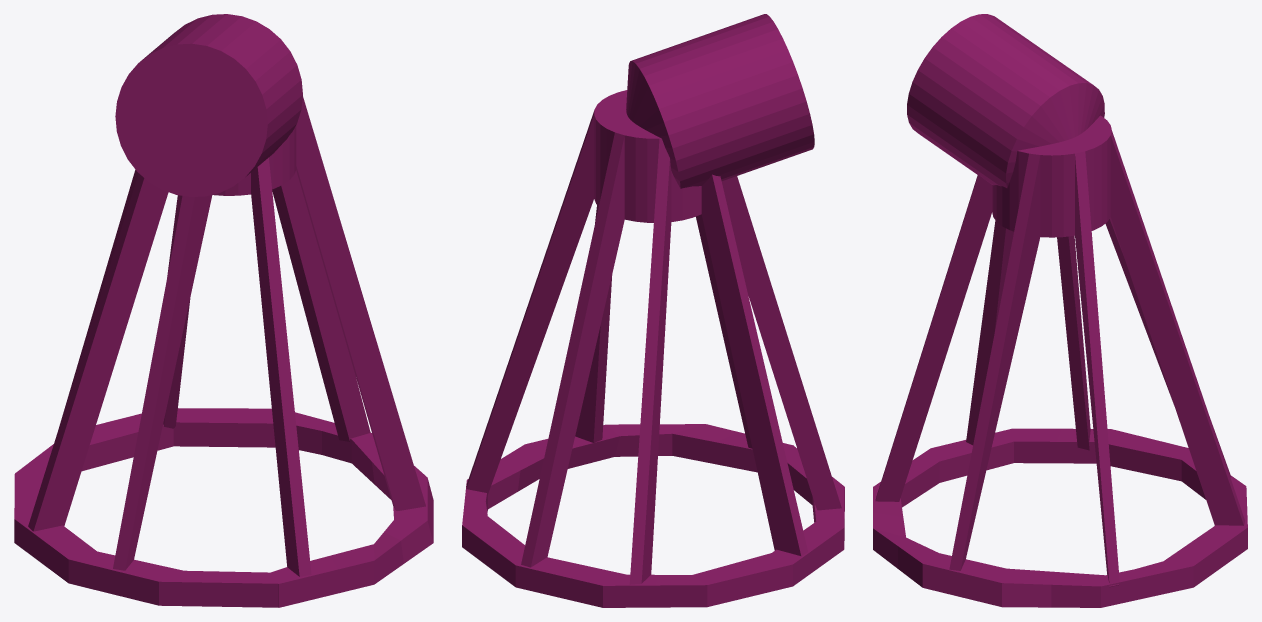
Rendered from SmallBlockRadarRynAR_Constr1.fbx.
3 views of the same model, side by side, from view 1: azimuth 30°, elevation 25°; view 2: azimuth 150°, elevation 25°; view 3: azimuth 270°, elevation 25° (orthographic). The views are drawn at different scales.
Visible parts, largest first — view 1: Cylinder; view 2: Cylinder; view 3: Cylinder.
Boxes of the visible parts, x1,y1,x2,y2 form: Cylinder: [14, 14, 433, 607]; Cylinder: [462, 14, 844, 607]; Cylinder: [873, 14, 1247, 607].
Bounding box in the file's own units: 0.4052 × 0.573 × 0.4066.
